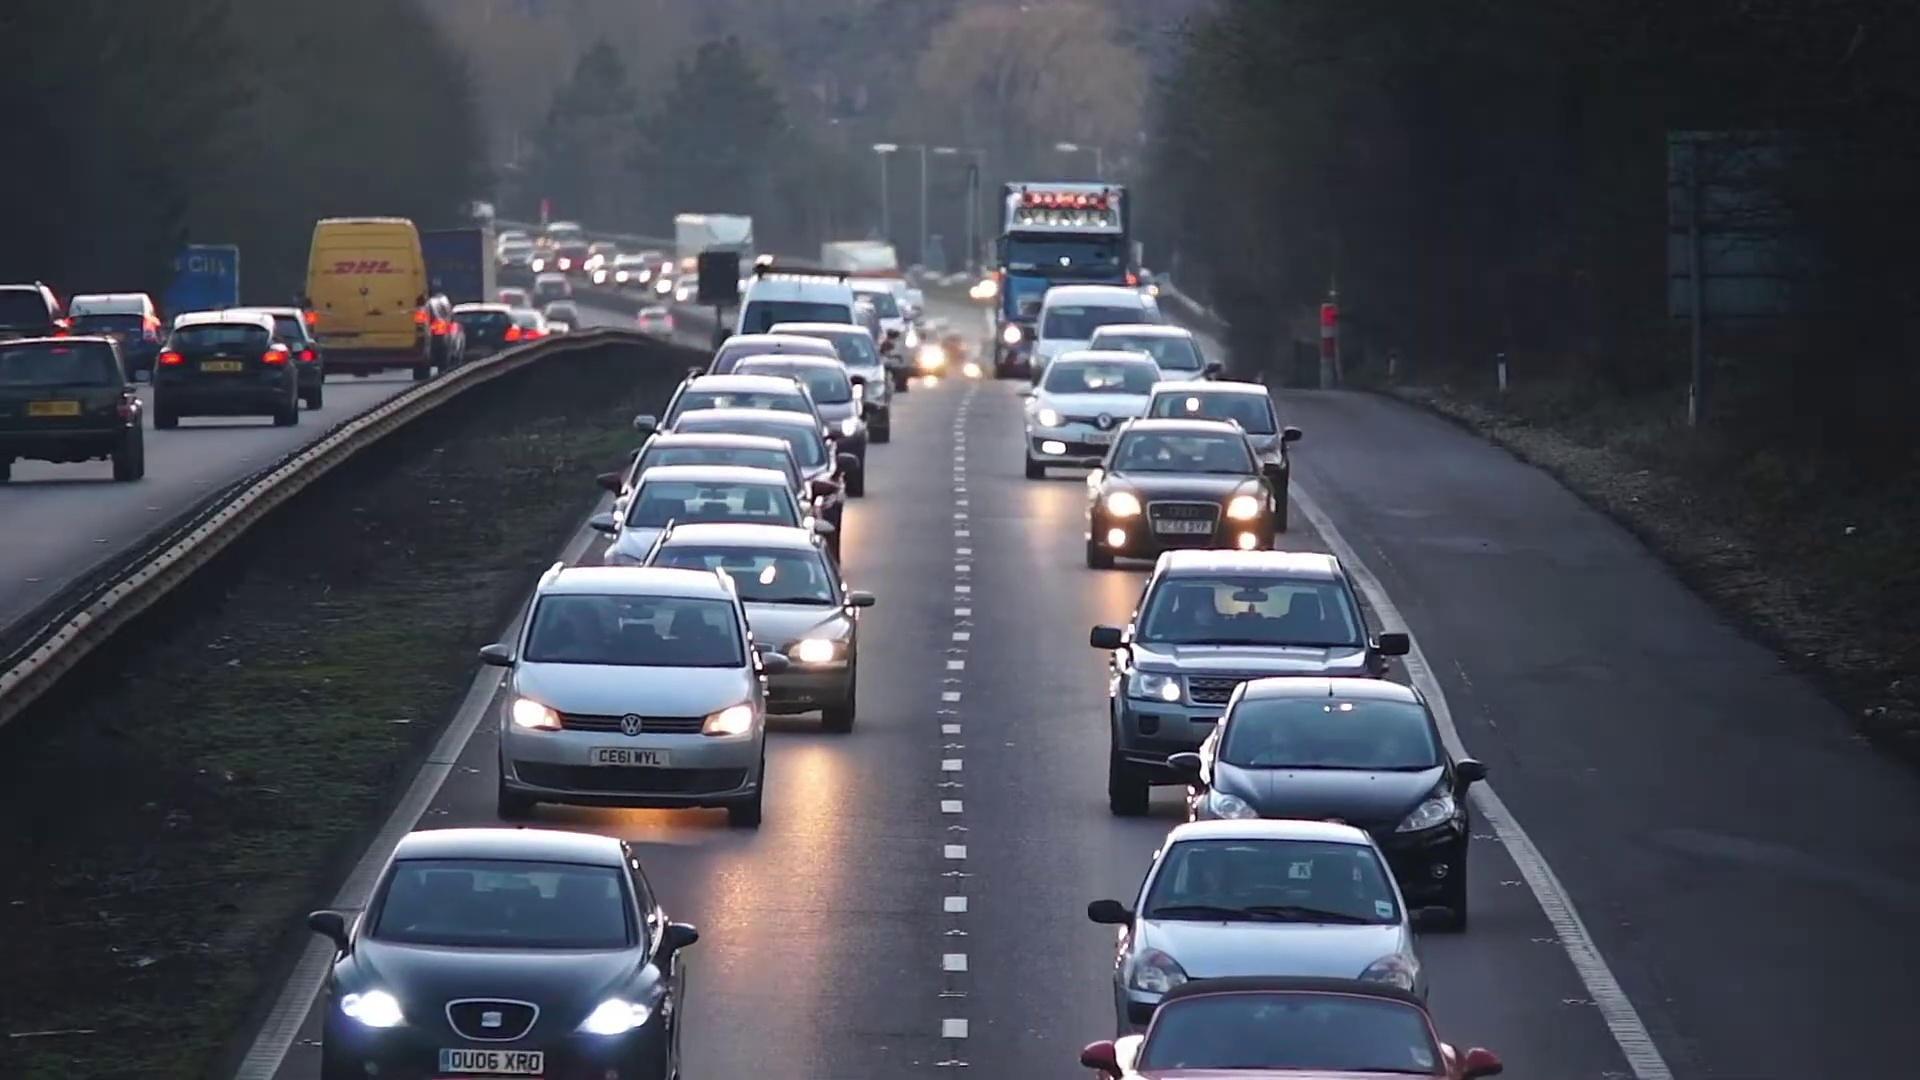license_plate: (435, 1040, 548, 1080), (587, 744, 673, 773)
